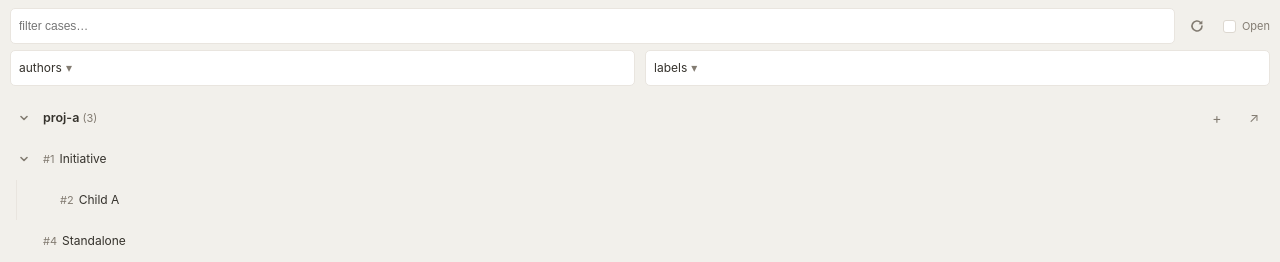
SidenavComponent › choosing an agent from the header "+" picker navigates with that agent named in `new` (#886)
Step 1. Click the button "+" → coordinates (1217, 118), box [1201,102,1233,134]
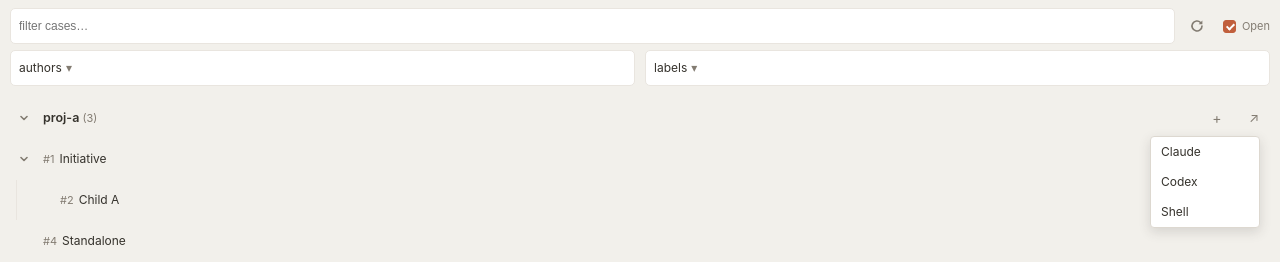
Step 2. Click the menu item with class "agent-option" showing "Codex" → coordinates (1205, 182), box [1151,167,1259,197]
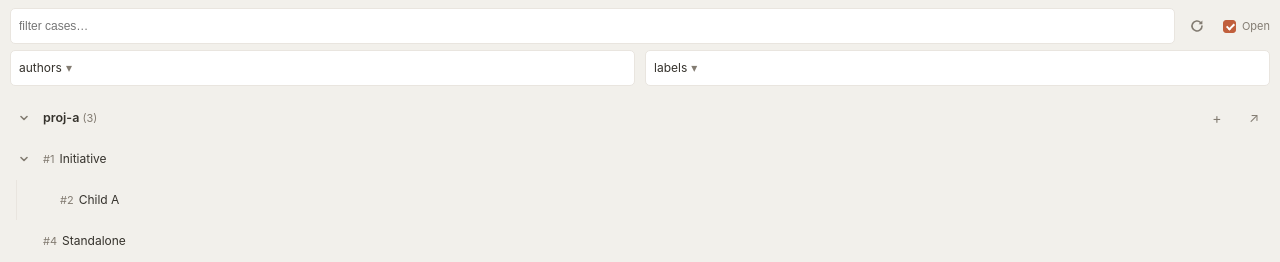
Check: the menu with class "agent-picker" is gone
